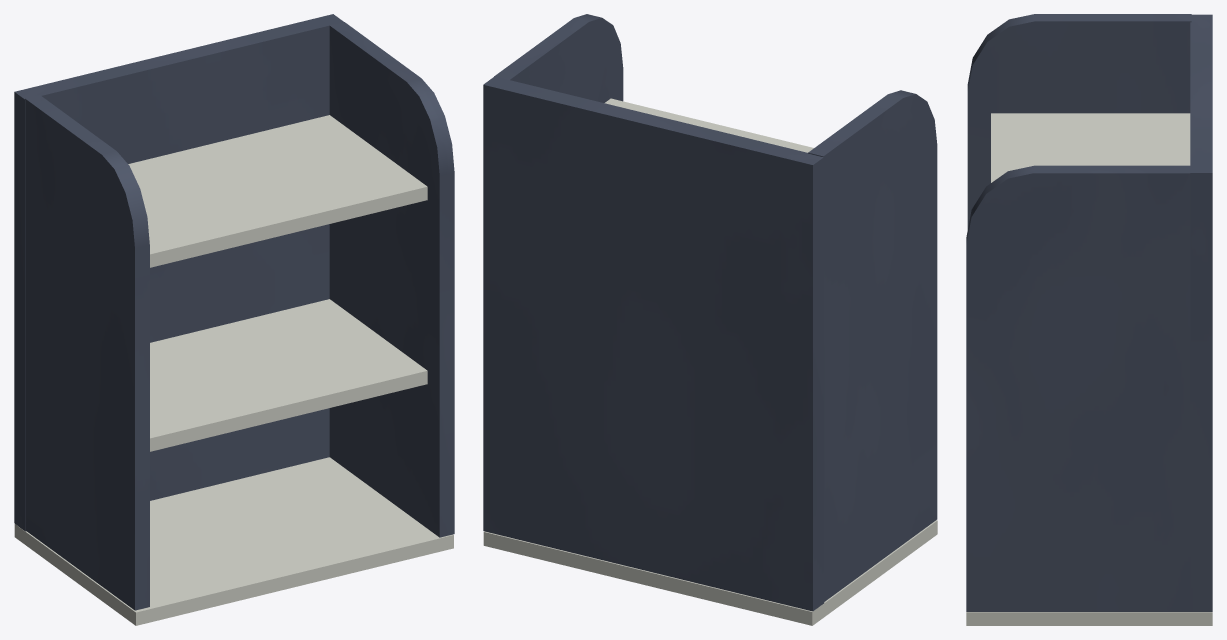
Rendered from rack.fbx.
3 views of the same model, side by side, from view 1: azimuth 30°, elevation 25°; view 2: azimuth 150°, elevation 25°; view 3: azimuth 270°, elevation 25° (orthographic). The views are drawn at different scales.
Parts seen in each view (by area): view 1: lab_rack1; view 2: lab_rack1; view 3: lab_rack1.
Boxes of the visible parts, left/top/right/bottom form: lab_rack1: left=14, top=14, right=454, bottom=625; lab_rack1: left=483, top=14, right=937, bottom=625; lab_rack1: left=966, top=14, right=1212, bottom=625.
Size of the model in its own units: 84.5 by 113 by 55.56.
